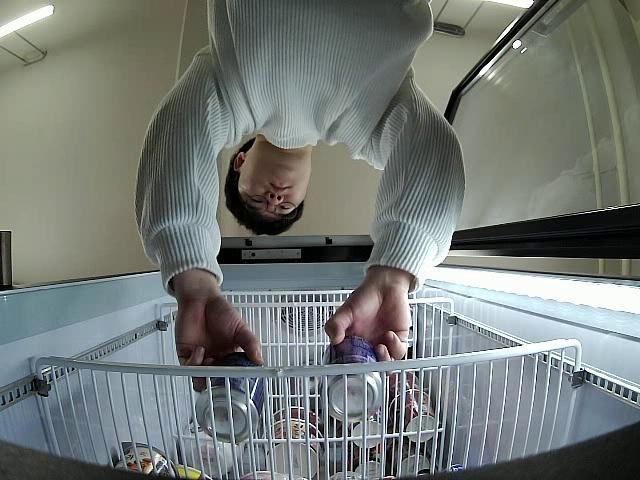14_welchsGrape: (194, 354, 262, 444), (324, 334, 384, 423)
